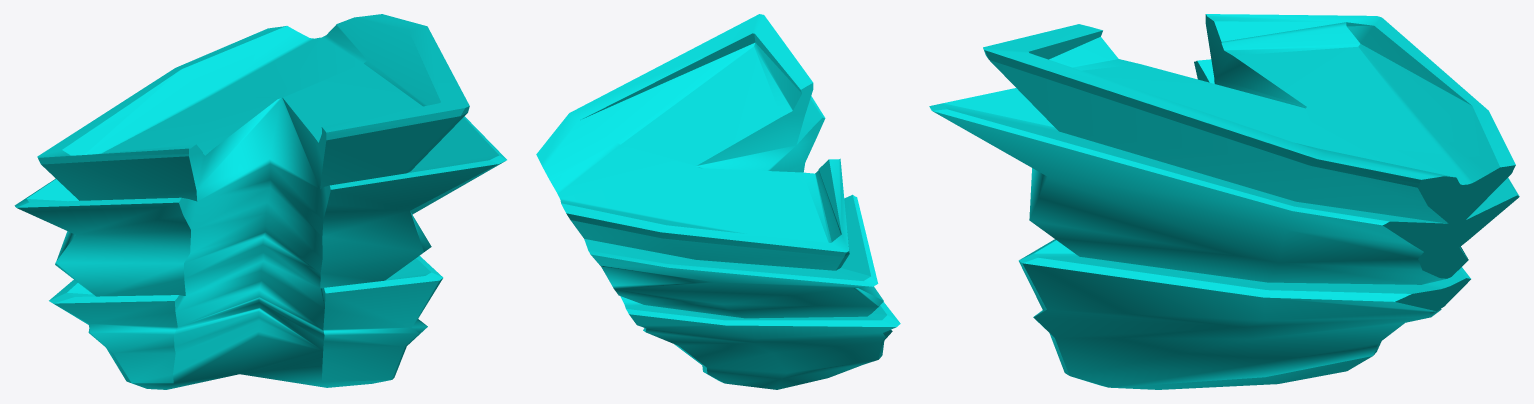
Rendered from tricystal2_small_alpha.fbx.
The picture shows the model from 3 angles, left to right: view 1: azimuth 30°, elevation 25°; view 2: azimuth 150°, elevation 25°; view 3: azimuth 270°, elevation 25°; orthographic projection. The views are drawn at different scales.
Parts seen in each view (by area): view 1: pCylinder1; view 2: pCylinder1; view 3: pCylinder1.
Part boxes in pixels (left/top/right/bottom): pCylinder1: left=14, top=14, right=506, bottom=389; pCylinder1: left=536, top=14, right=900, bottom=389; pCylinder1: left=929, top=14, right=1519, bottom=389.
Bounding box in the file's own units: 5.07 × 3.85 × 5.42.
